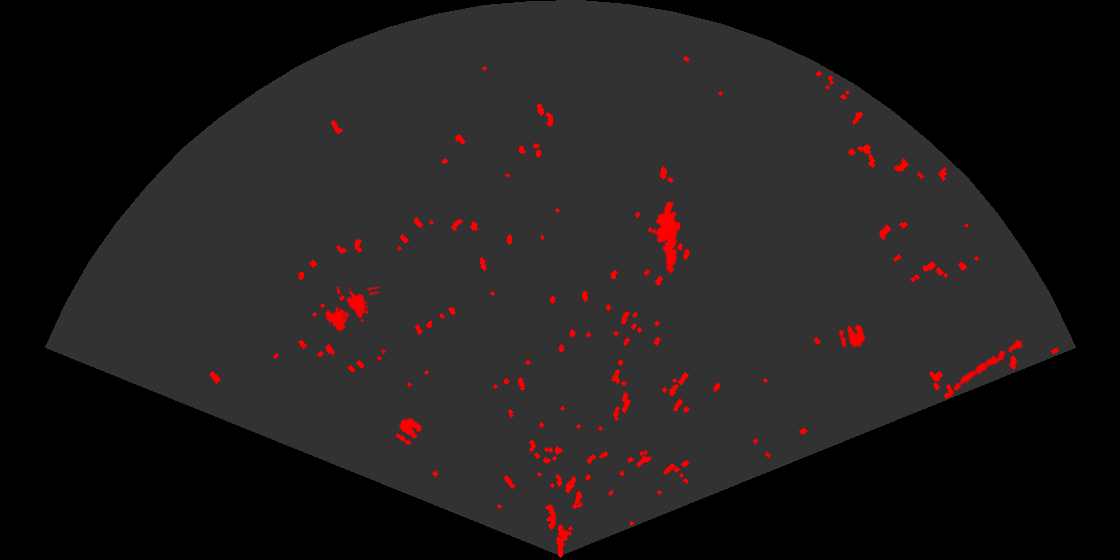ball: (394, 416, 423, 447), (837, 322, 867, 349)
cage: (323, 287, 379, 333)
chain: (952, 336, 1027, 393)
frogman: (650, 202, 682, 275)
